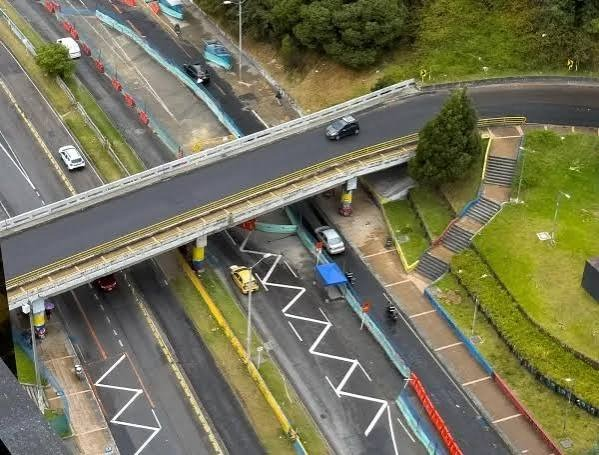car: (4, 9, 573, 451)
